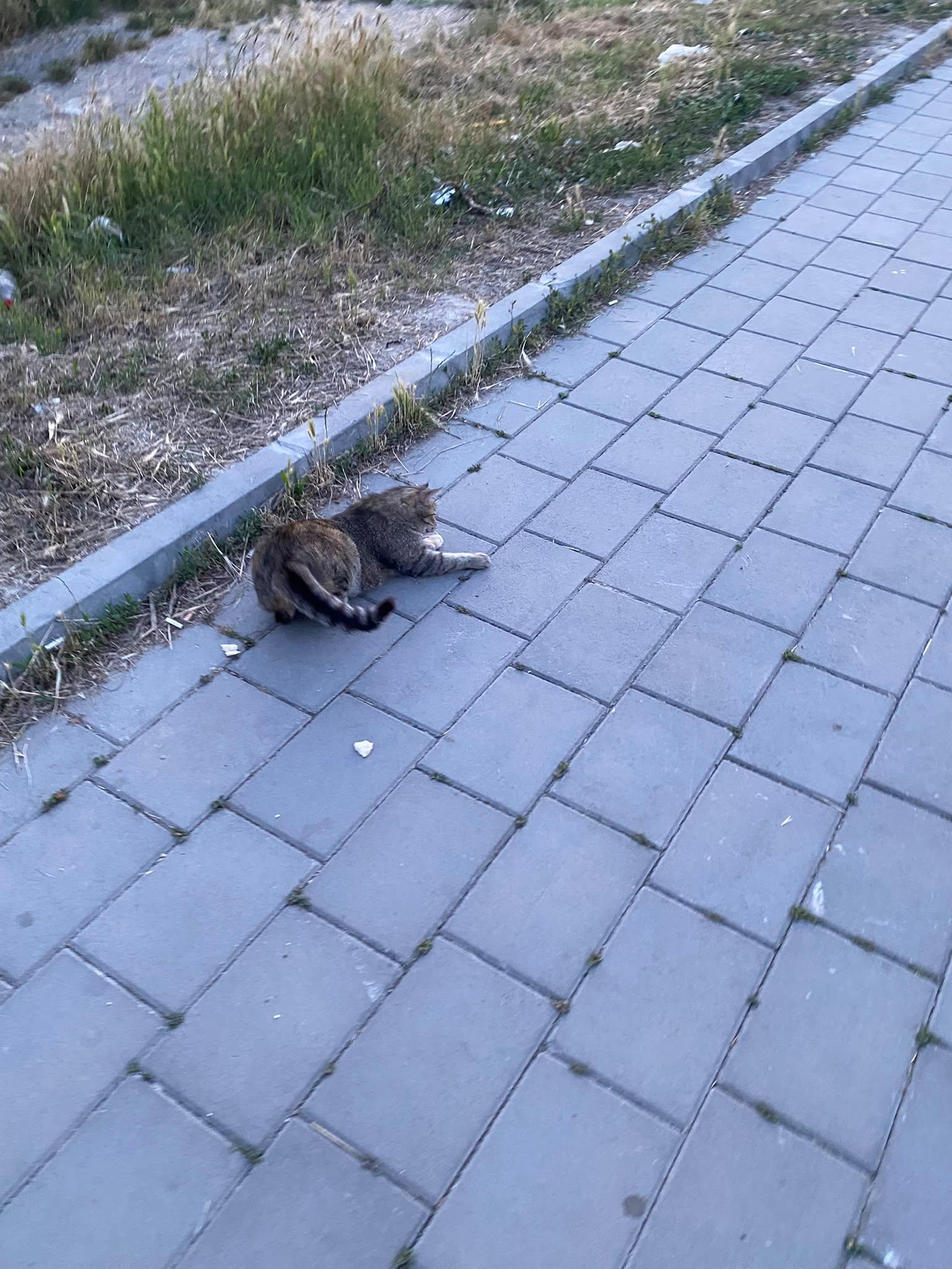macka: (251, 484, 493, 630)
